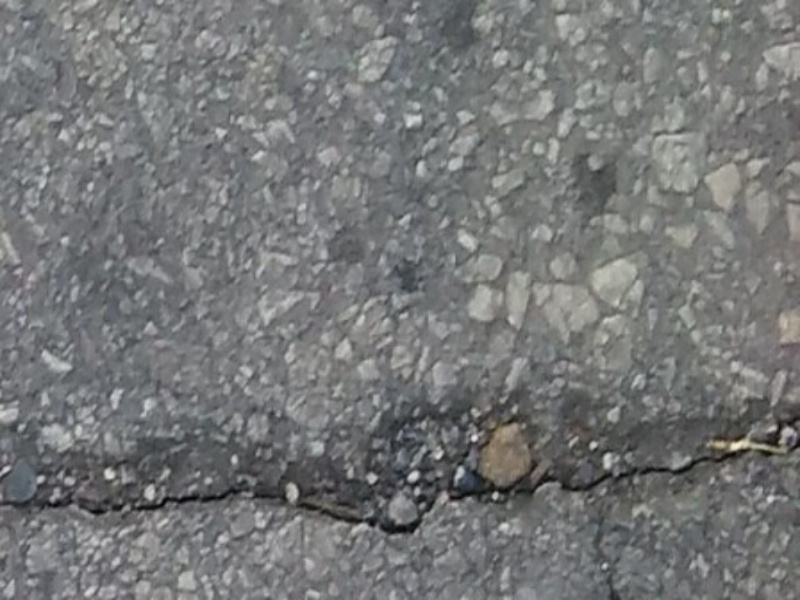crack: (6, 420, 795, 567)
